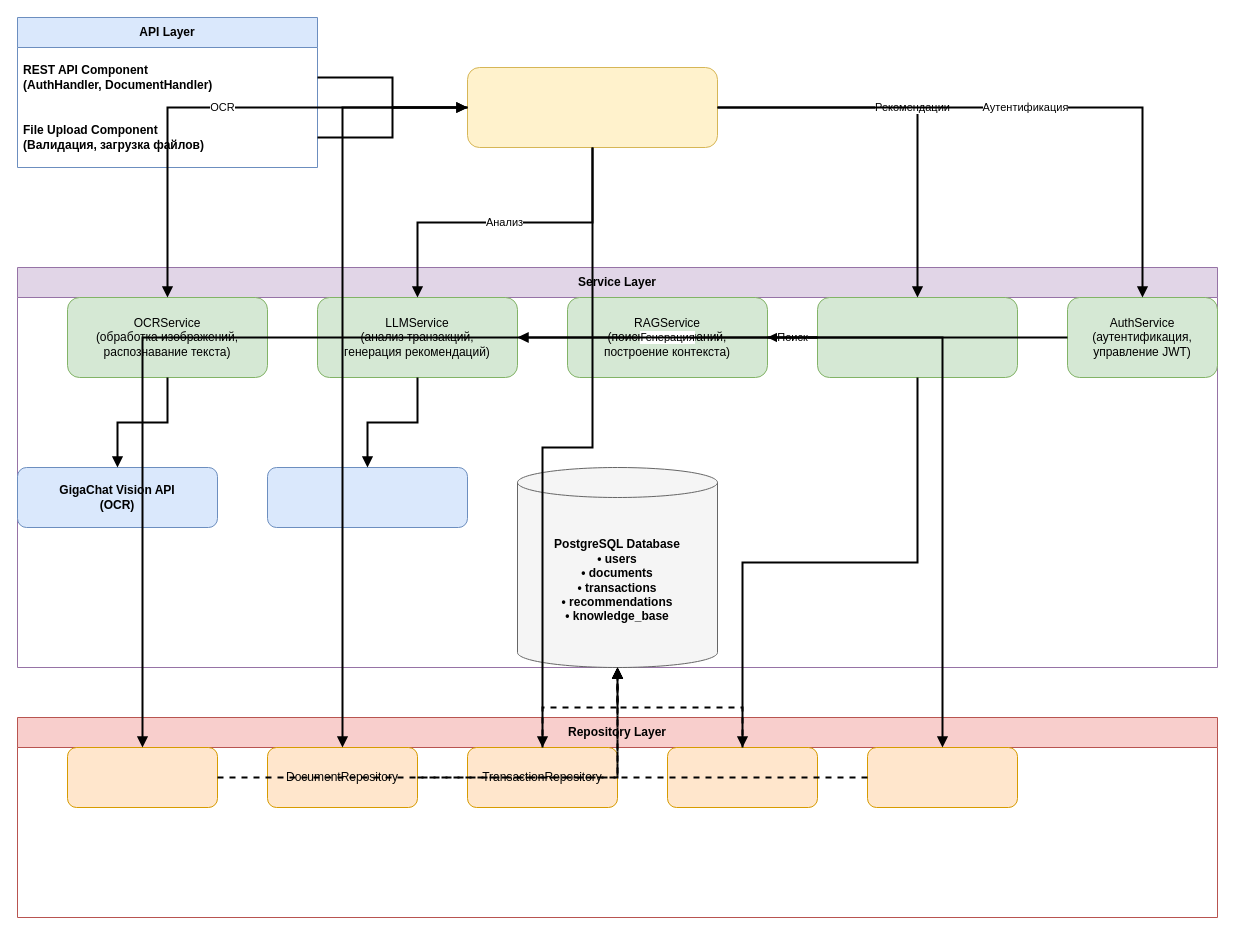
Image size: 1235x935. Some labels were removed from this diagram. Each missing label, with the centre of its shape:
"DocumentService (управление документами, координация обработки)" belongs at (x=592, y=107).
"GigaChat Chat Completions API (LLM)" belongs at (x=367, y=497).
"KnowledgeRepository" belongs at (x=942, y=777).
"RecommendationRepository" belongs at (x=742, y=777).
"RecommendationService (генерация рекомендаций, оценка экономии)" belongs at (x=917, y=337).
"UserRepository" belongs at (x=142, y=777).
